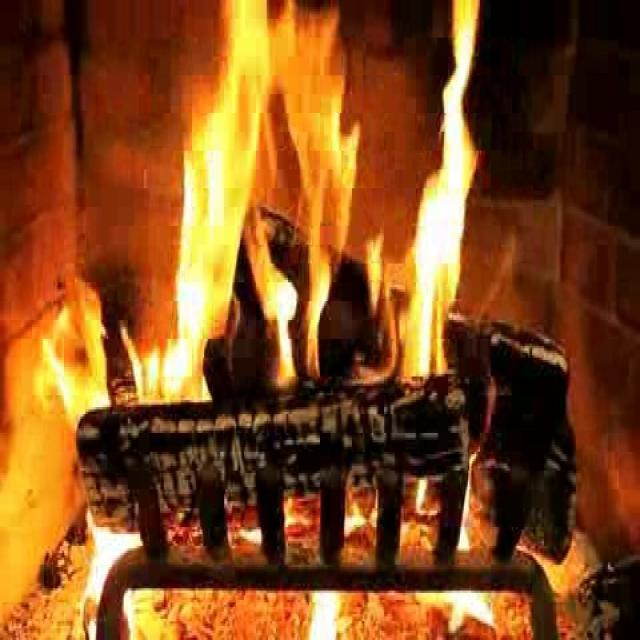Fire: (11, 0, 639, 428)
